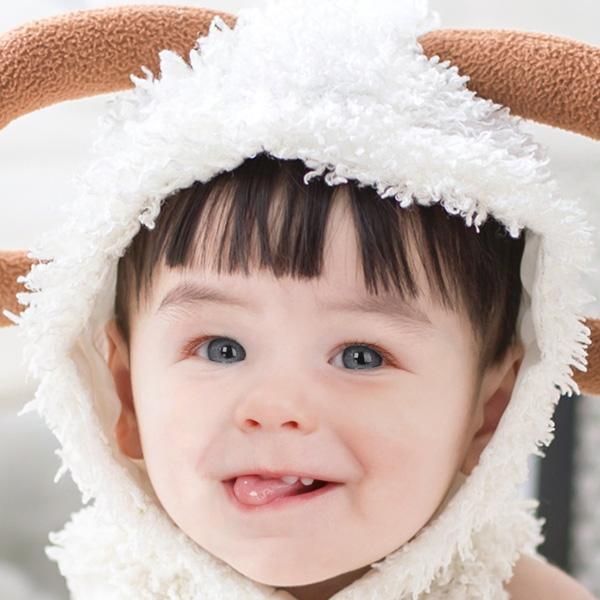Eyes: (314, 329, 414, 383), (173, 324, 257, 379)
